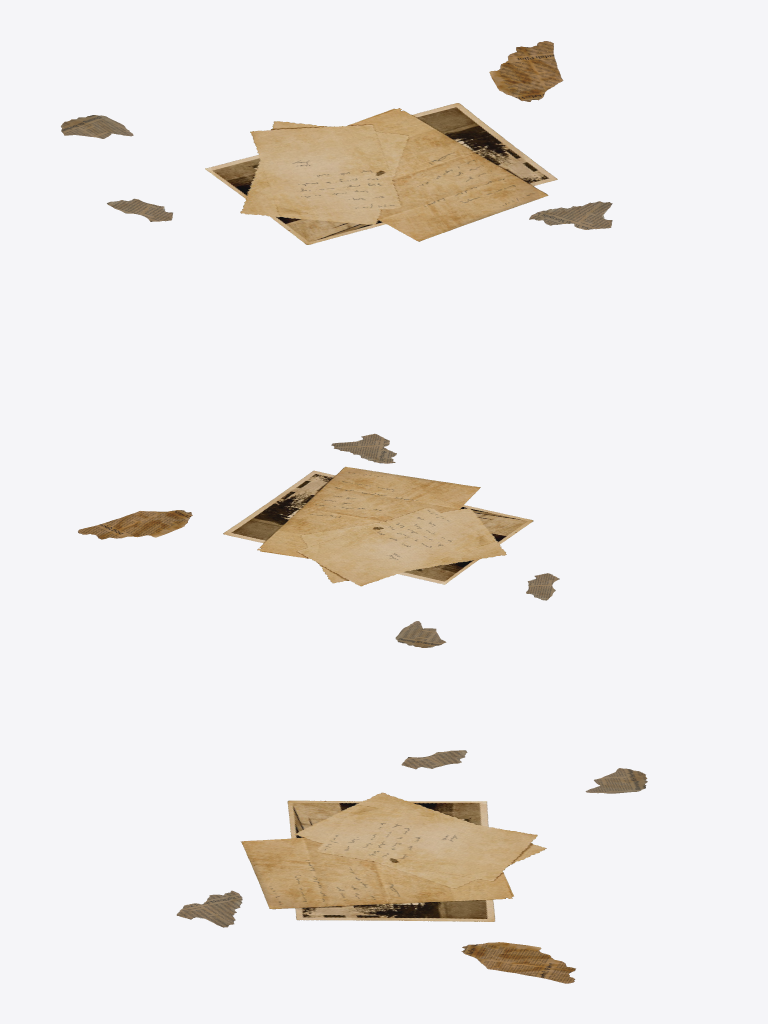
The model's file is ScatteredPaper.fbx.
3 views of the same model, one above another, from view 1: azimuth 30°, elevation 25°; view 2: azimuth 150°, elevation 25°; view 3: azimuth 270°, elevation 25° (orthographic). The views are drawn at different scales.
Visible parts, largest first — view 1: ScatteredPaper; view 2: ScatteredPaper; view 3: ScatteredPaper.
Part boxes in pixels (box(x1,y1,x2,y2)): ScatteredPaper: box(61, 41, 612, 244); ScatteredPaper: box(78, 433, 559, 647); ScatteredPaper: box(176, 750, 647, 983).
Bounding box in the file's own units: 21.83 × 1.44e-15 × 22.79.
